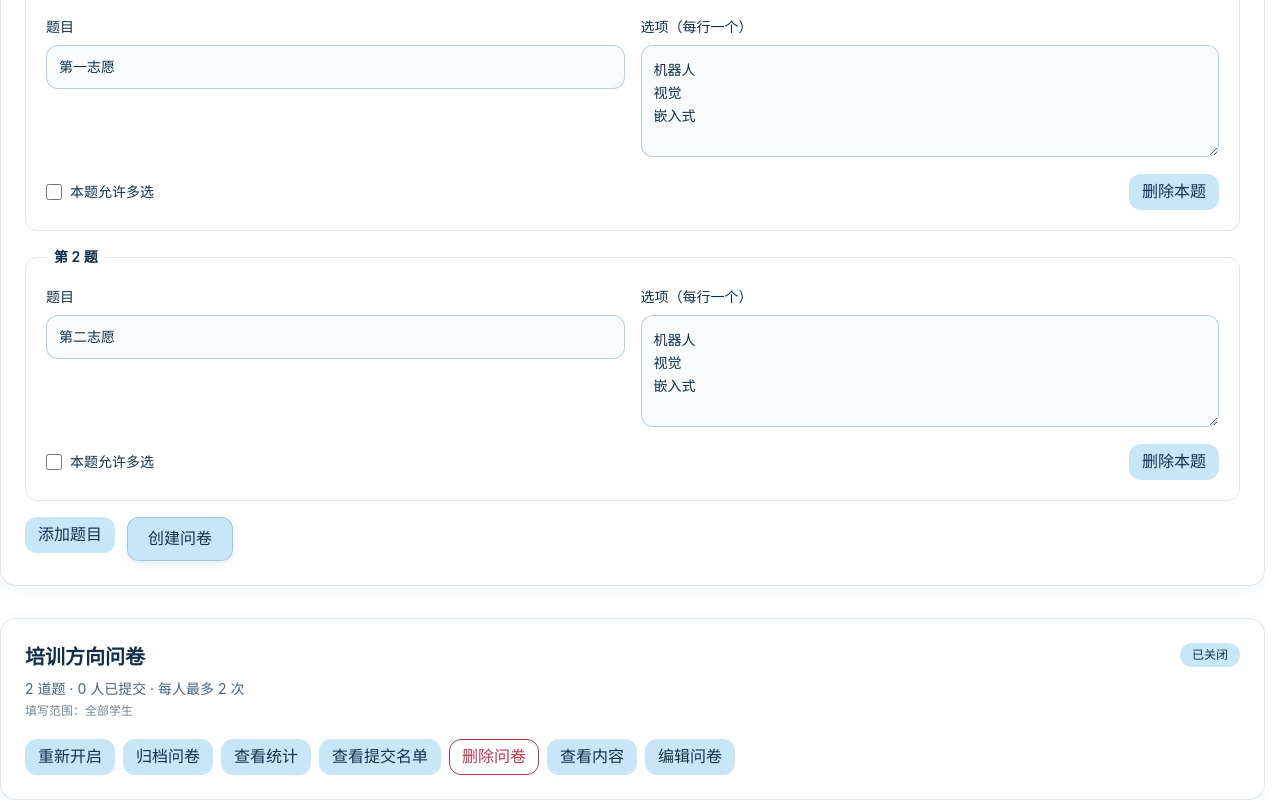
it: administrator questionnaire panel › reopens a closed questionnaire without exposing archive as reversible
(page scrolled)
Check: the button "归档问卷" is shown, box [123,739,213,775]
Click the button "重新开启" at (70, 757), box [25,739,115,775]
(page scrolled)
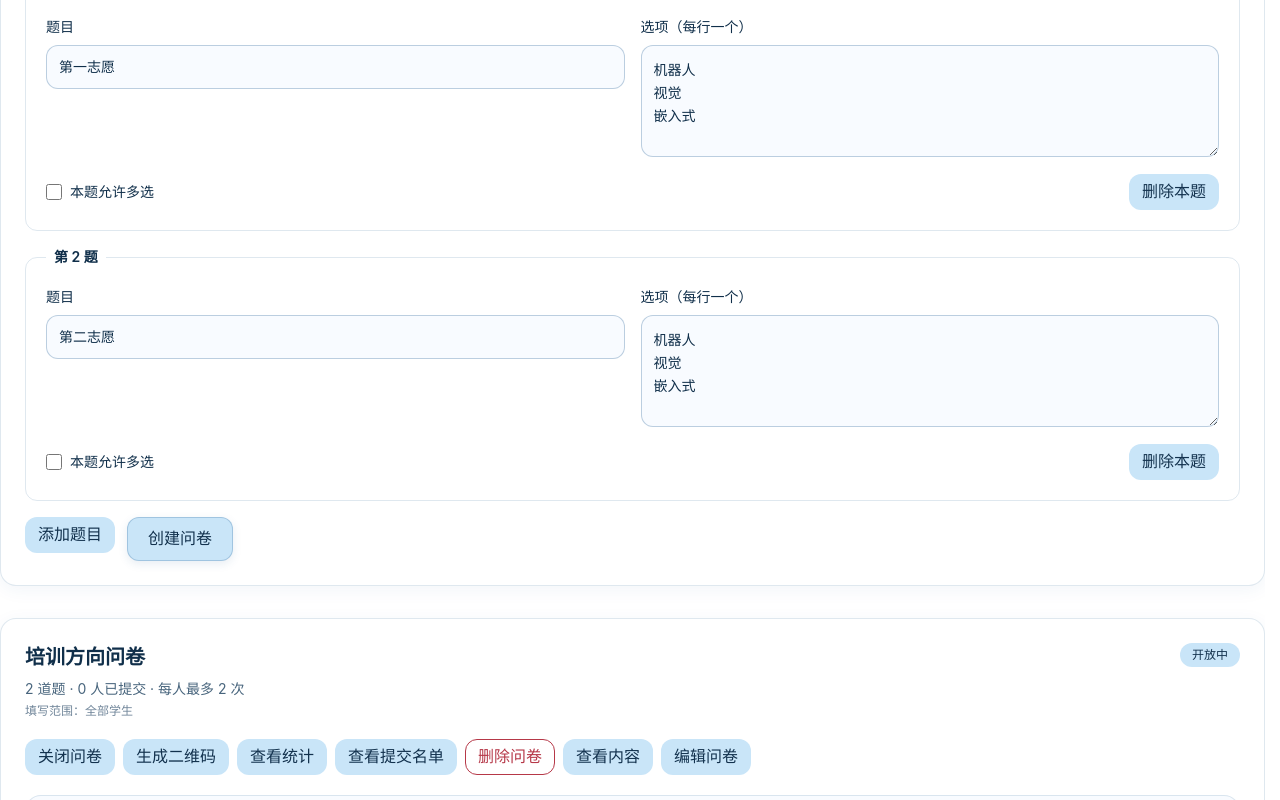
Check: the button "关闭问卷" is shown, box [25,739,115,775]
Check: the button "生成二维码" is shown, box [123,739,229,775]
Check: the button "重新开启" is gone
